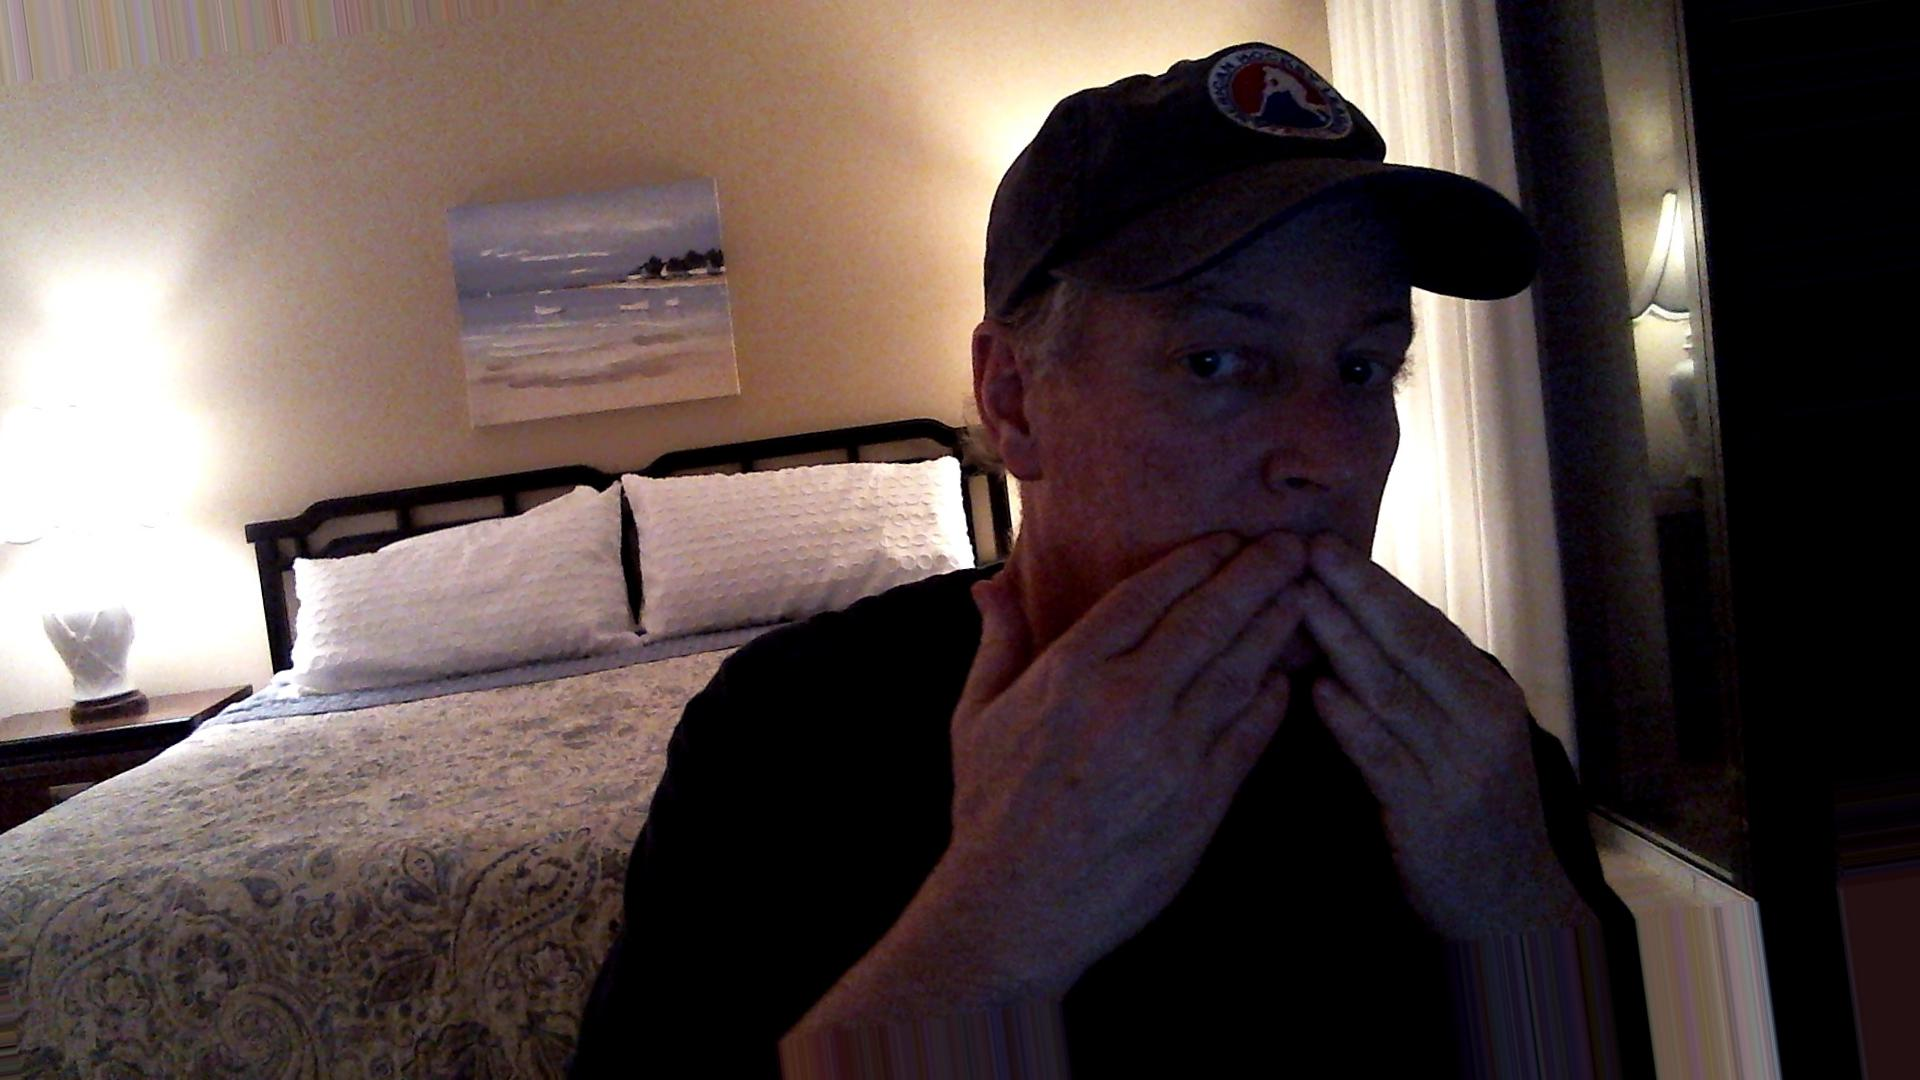Thank You: (938, 508, 1580, 935)
